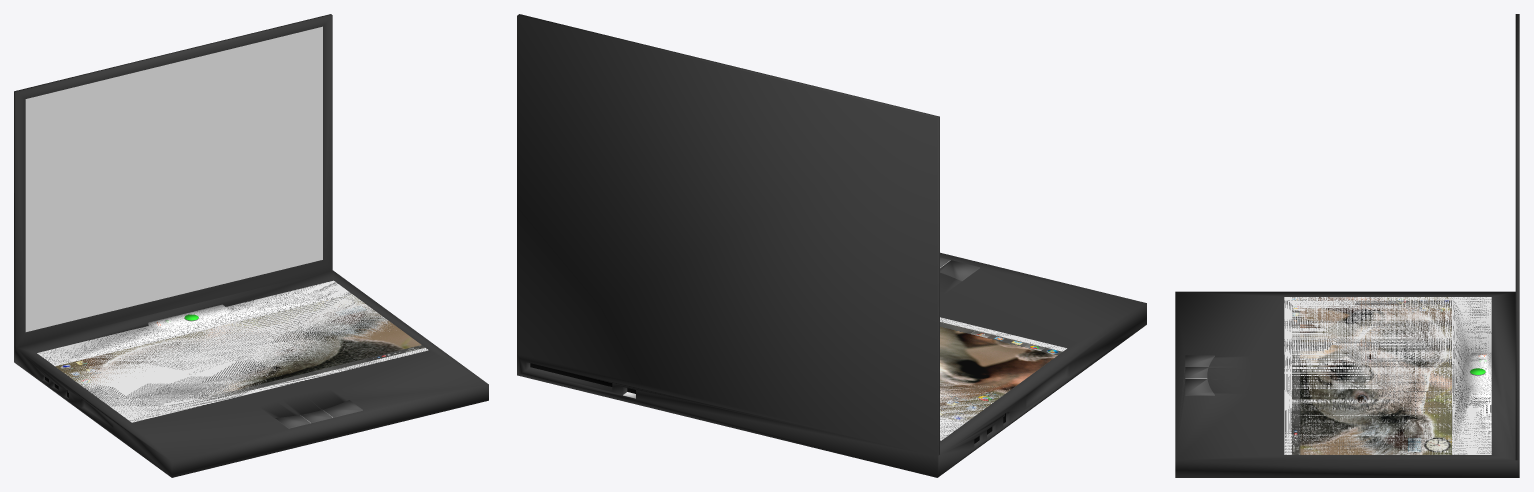
3 views of the same model, side by side, from view 1: azimuth 30°, elevation 25°; view 2: azimuth 150°, elevation 25°; view 3: azimuth 270°, elevation 25° (orthographic). The views are drawn at different scales.
Parts seen in each view (by area): view 1: lappy (×4), image_0, image_1; view 2: lappy (×2), image_1; view 3: lappy (×4), image_1.
Boxes of the visible parts, bbox=[...] form: lappy (×4): bbox=[14, 14, 488, 477]; image_0: bbox=[25, 73, 322, 331]; image_1: bbox=[55, 294, 425, 400]; lappy (×2): bbox=[517, 14, 1146, 477]; image_1: bbox=[940, 322, 1062, 422]; lappy (×4): bbox=[1175, 14, 1519, 477]; image_1: bbox=[1292, 297, 1451, 454].
Bounding box in the file's own units: 25.5 × 22 × 20.85.
